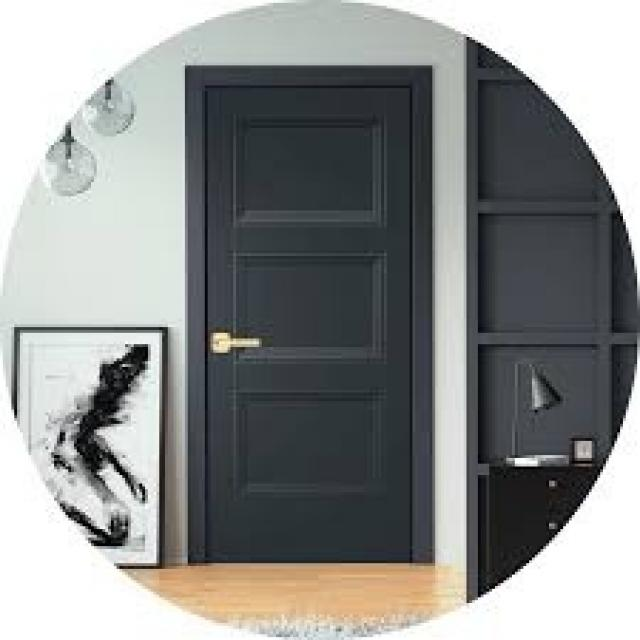Door: (200, 80, 420, 568)
